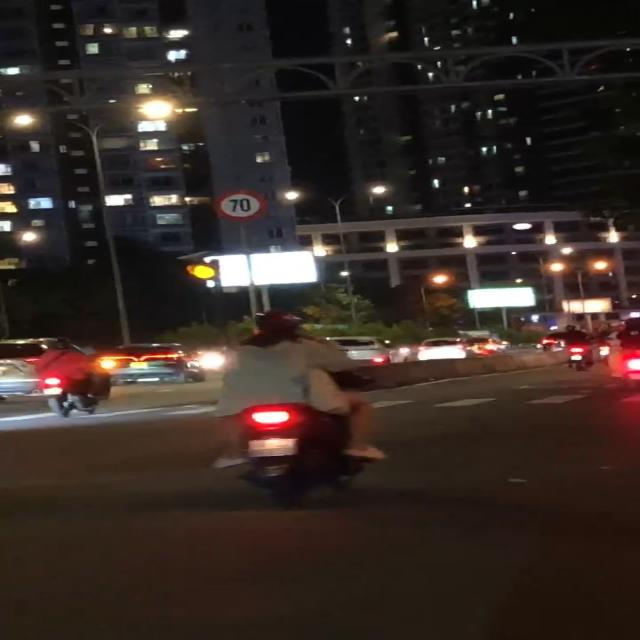Bien bao toc do toi da cho phep: (211, 189, 269, 225)
